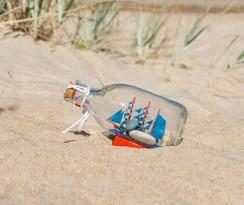glass: (61, 80, 187, 148)
